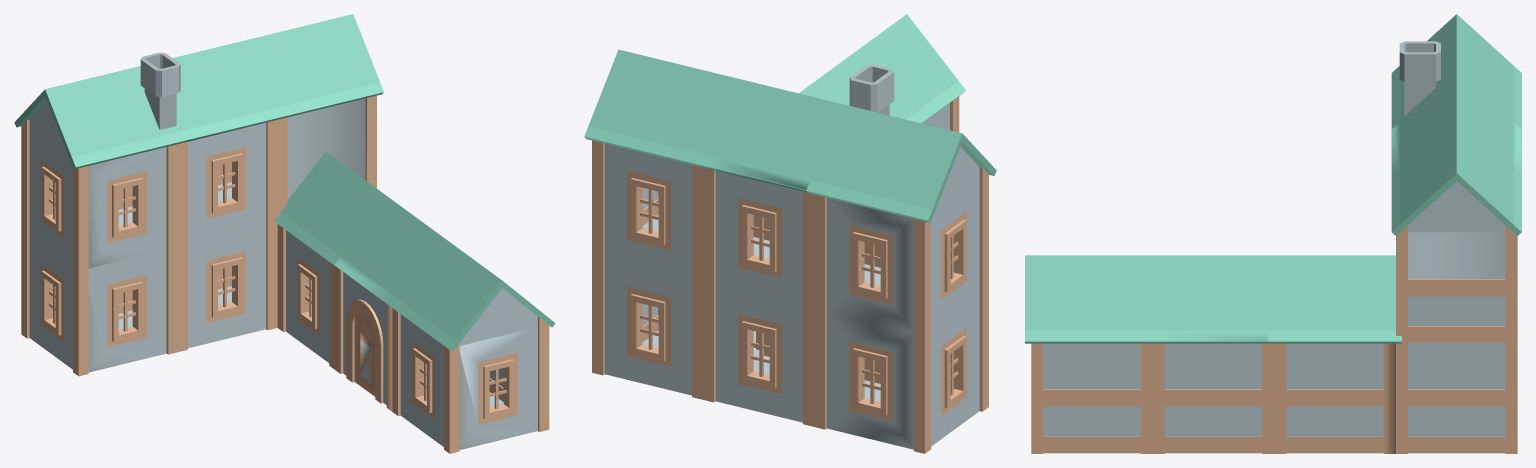
The model's file is BasicHouse5.fbx.
The picture shows the model from 3 angles, left to right: view 1: azimuth 30°, elevation 25°; view 2: azimuth 150°, elevation 25°; view 3: azimuth 270°, elevation 25°; orthographic projection. The views are drawn at different scales.
Parts seen in each view (by area): view 1: wallDoor.004, roofGable.008, roofGable.005, chimneyTop.001; view 2: wallDoor.004, roofGable.008, roofGable.005, chimneyTop.001; view 3: wallDoor.004, roofGable.005, roofGable.008, chimneyTop.001.
Boxes of the visible parts, x1,y1,x2,y2 form: wallDoor.004: (21, 95, 549, 453); roofGable.008: (14, 14, 383, 169); roofGable.005: (274, 151, 555, 351); chimneyTop.001: (118, 52, 503, 407); wallDoor.004: (592, 96, 988, 453); roofGable.008: (584, 49, 996, 222); roofGable.005: (799, 14, 965, 123); chimneyTop.001: (642, 64, 894, 401); wallDoor.004: (1031, 232, 1517, 453); roofGable.005: (1025, 255, 1401, 343); roofGable.008: (1391, 14, 1521, 235); chimneyTop.001: (1399, 41, 1440, 116).
Size of the model in its own units: 310 by 273 by 409.
